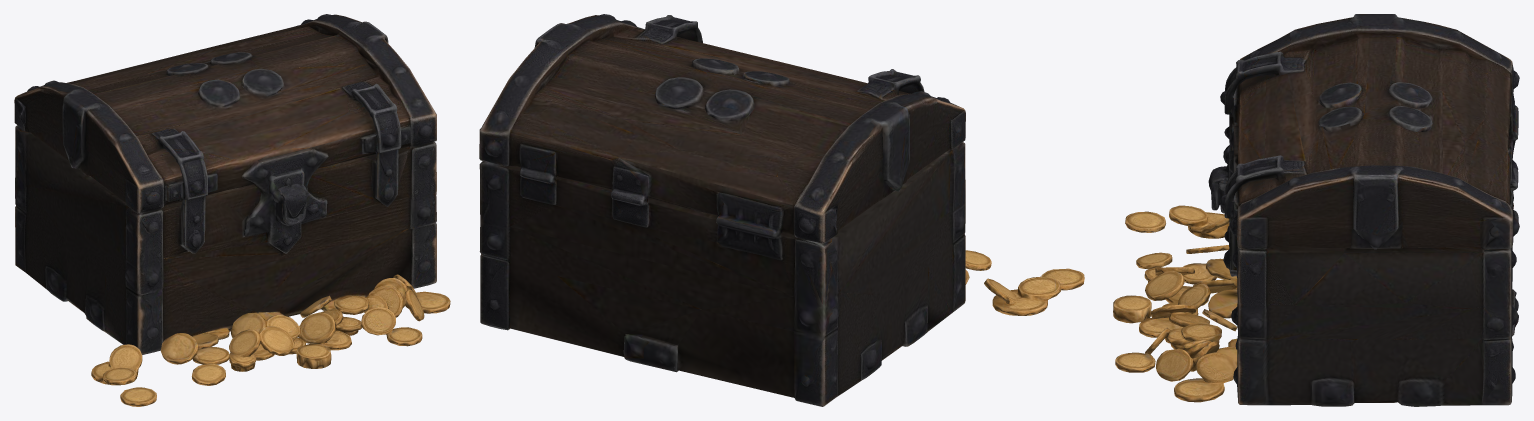
File: treasure_chest.gltf
3 views of the same model, side by side, from view 1: azimuth 30°, elevation 25°; view 2: azimuth 150°, elevation 25°; view 3: azimuth 270°, elevation 25° (orthographic). The views are drawn at different scales.
Visible parts, largest first — view 1: treasure_chest; view 2: treasure_chest; view 3: treasure_chest.
Boxes of the visible parts, x1,y1,x2,y2 form: treasure_chest: (14,14,450,406); treasure_chest: (479,14,1084,406); treasure_chest: (1113,14,1519,406).
Size of the model in its own units: 0.8081 by 0.4547 by 0.7112.
1 material, 1 textured.
